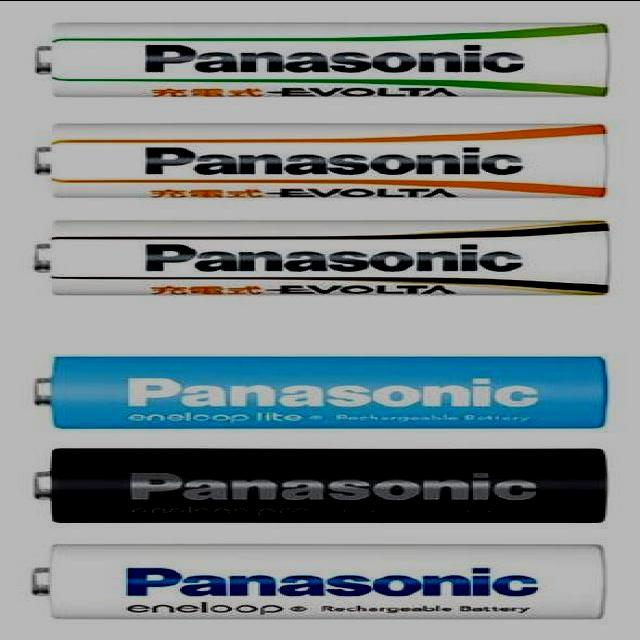AAA: (26, 438, 614, 528), (23, 214, 614, 302), (22, 534, 611, 622), (25, 116, 620, 202), (26, 17, 612, 104), (30, 347, 616, 432)
